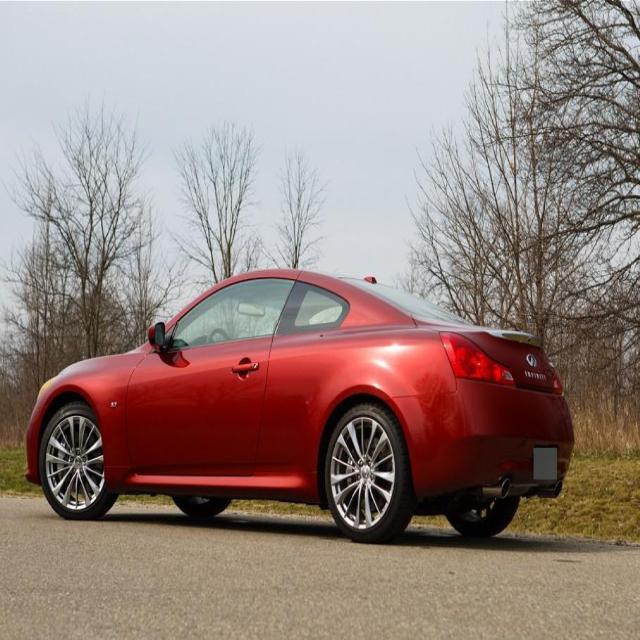back_left_side_light: (440, 328, 517, 389)
front_left_side_door: (122, 268, 298, 479)
front_left_side_mirror: (148, 319, 171, 352)
rear_bumper: (387, 376, 574, 501)
wheel: (326, 403, 408, 542), (39, 400, 120, 518)
